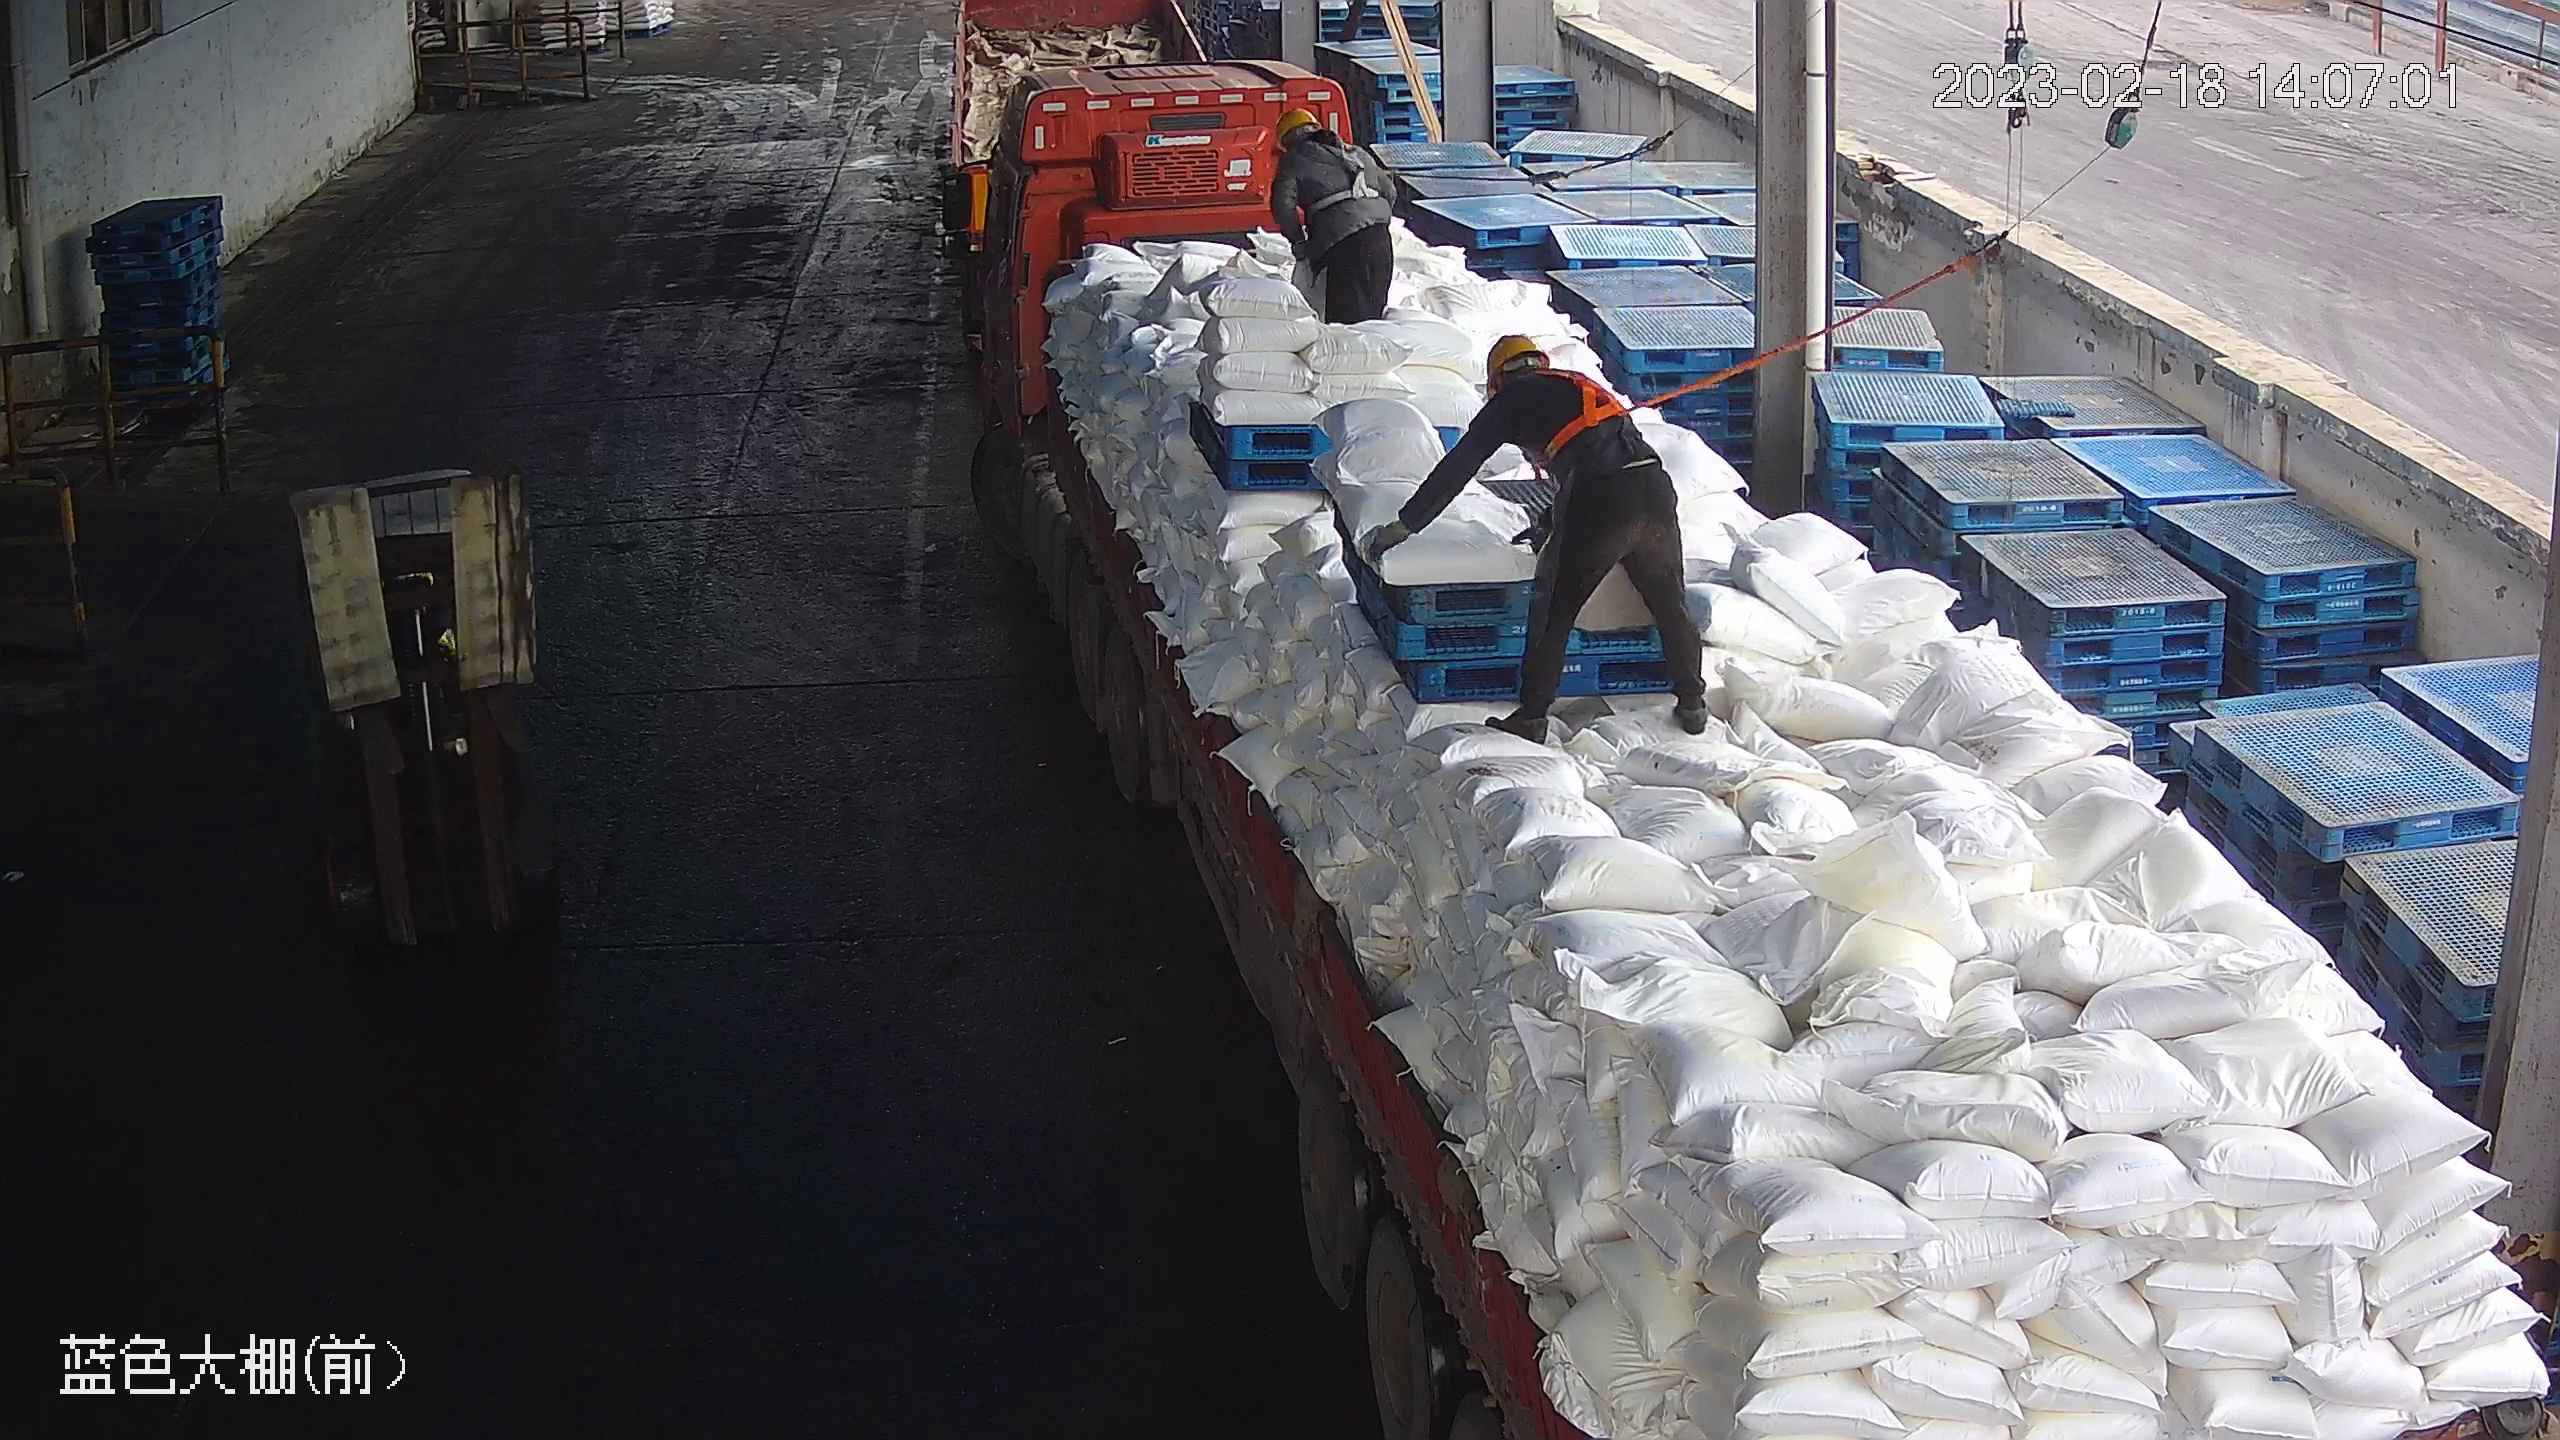belt: (1542, 362, 1649, 459), (1298, 132, 1386, 210)
head: (1462, 333, 1640, 447), (1266, 108, 1374, 184)
helmet: (1486, 332, 1549, 379), (1273, 108, 1323, 145)
people: (1369, 335, 1713, 745), (1268, 110, 1395, 325)
truck: (935, 57, 2560, 1440)
